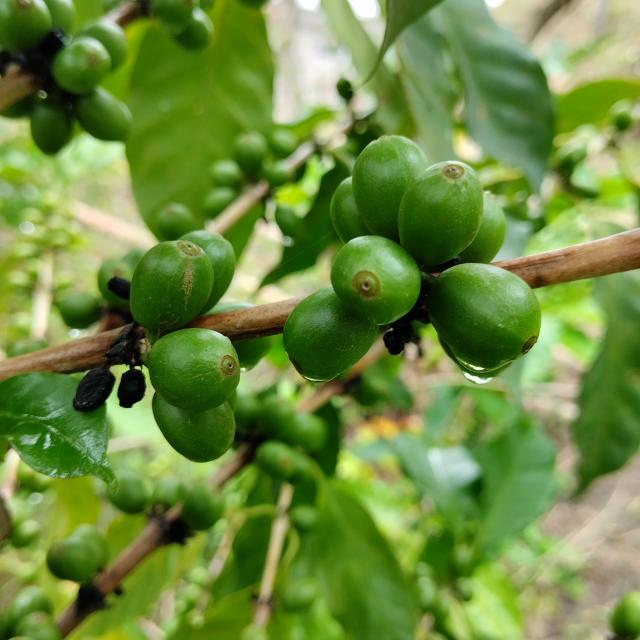green: (428, 263, 542, 378), (428, 263, 542, 373), (283, 286, 379, 382), (283, 286, 379, 382), (398, 160, 484, 266), (398, 160, 484, 266), (129, 240, 214, 341), (352, 135, 429, 241), (331, 235, 421, 325), (331, 235, 421, 325), (147, 328, 239, 411), (147, 328, 239, 411), (152, 393, 235, 463), (179, 230, 236, 315), (460, 191, 507, 263), (330, 176, 371, 243), (330, 176, 371, 243)
